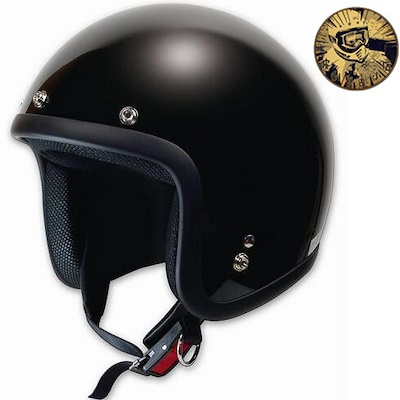with_helmet: (14, 3, 338, 317)
